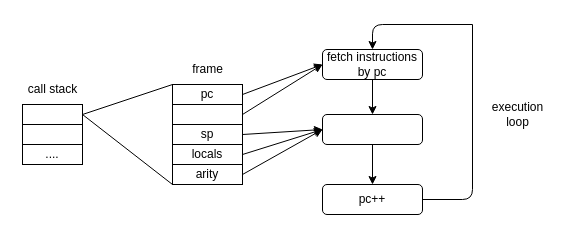
Some shapes in this 569 by 232 pixel diagram are drawn without their labels. Each missing label, with the centre of its shape:
"execute instruction" goes at (x=372, y=129).
"func 1" goes at (x=52, y=134).
"func 2" goes at (x=52, y=114).
"instructions" goes at (x=207, y=114).
